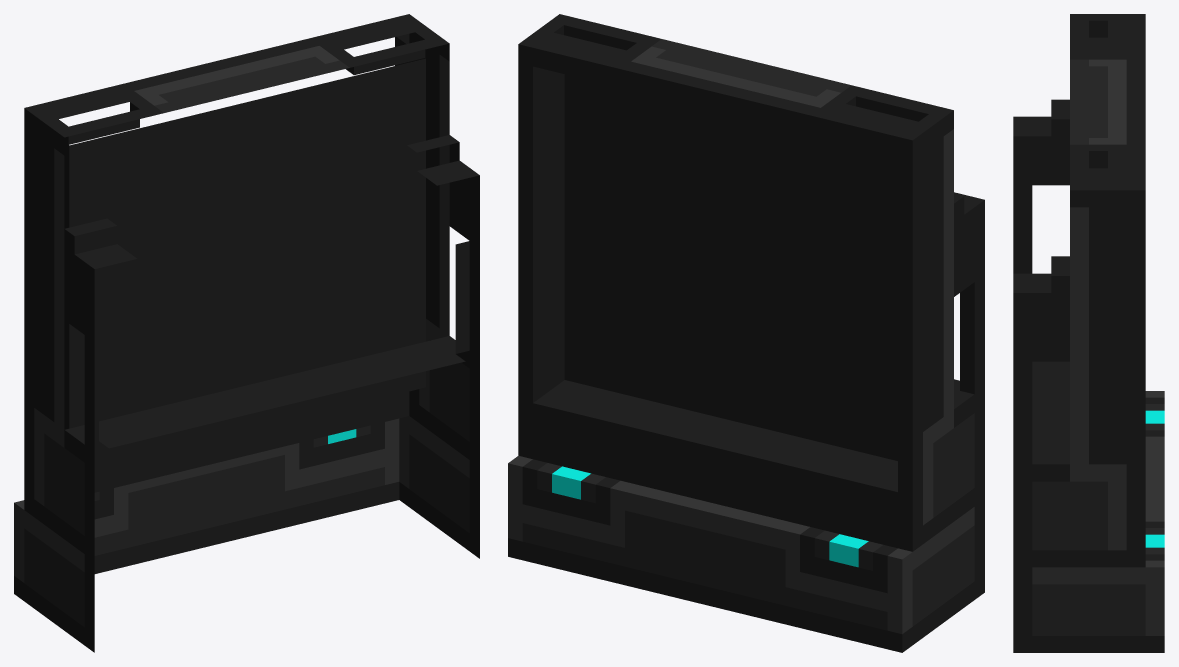
The model's file is env_prop_centrifugePanel.fbx.
3 views of the same model, side by side, from view 1: azimuth 30°, elevation 25°; view 2: azimuth 150°, elevation 25°; view 3: azimuth 270°, elevation 25° (orthographic). The views are drawn at different scales.
Parts seen in each view (by area): view 1: Centrifuge_TutorialPanel; view 2: Centrifuge_TutorialPanel; view 3: Centrifuge_TutorialPanel.
Part boxes in pixels (bbox=[...]): Centrifuge_TutorialPanel: bbox=[14, 14, 479, 652]; Centrifuge_TutorialPanel: bbox=[508, 14, 984, 652]; Centrifuge_TutorialPanel: bbox=[1013, 14, 1164, 652].
Bounding box in the file's own units: 150 × 184 × 54.54.
Materials: 1 (1 with a texture image).
